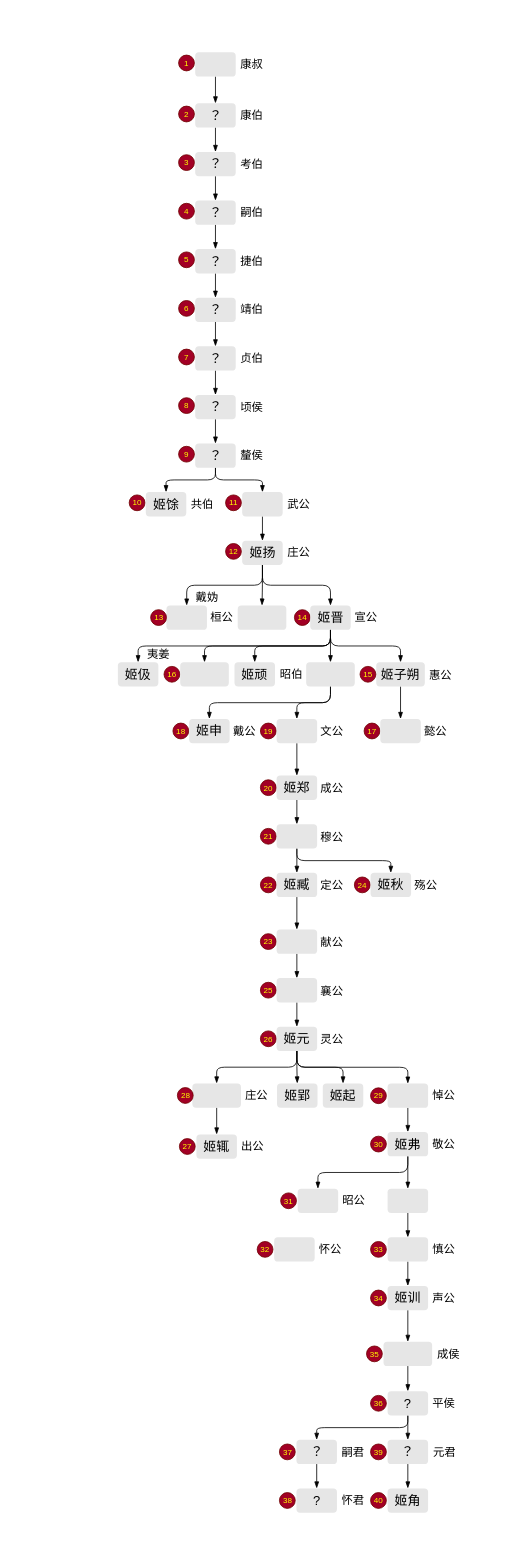
Image size: 514x1567. Some labels were removed from this diagram. The shapes that lost their labels are listed below. From the top down, each one's centre as x and y in pixels, then its label:
[215,64]: 姬封
[262,504]: 姬和
[186,617]: 姬完
[261,617]: 姬州吁
[204,674]: 姬黔牟
[330,674]: 姬子寿
[296,730]: 姬燬
[400,730]: 姬赤
[296,836]: 姬遬
[296,941]: 姬衎
[296,990]: 姬恶
[216,1095]: 姬蒯聩
[407,1095]: 姬黔
[317,1200]: 姬纠
[407,1200]: 姬適
[294,1249]: 姬亹
[407,1249]: 姬穨
[407,1353]: 姬不逝
